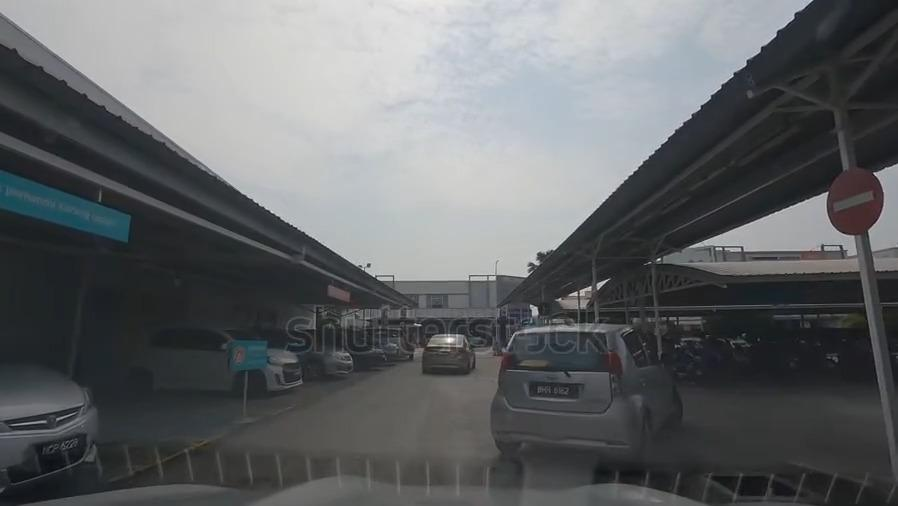car: (494, 327, 676, 447), (0, 342, 102, 476), (131, 325, 297, 395), (276, 330, 353, 381), (422, 331, 476, 374), (335, 331, 383, 371)
manhole: (696, 467, 806, 505)
person: (405, 329, 417, 360)
wheel: (633, 414, 659, 467), (233, 367, 262, 402), (665, 387, 687, 430), (127, 363, 154, 395), (301, 355, 323, 382)
